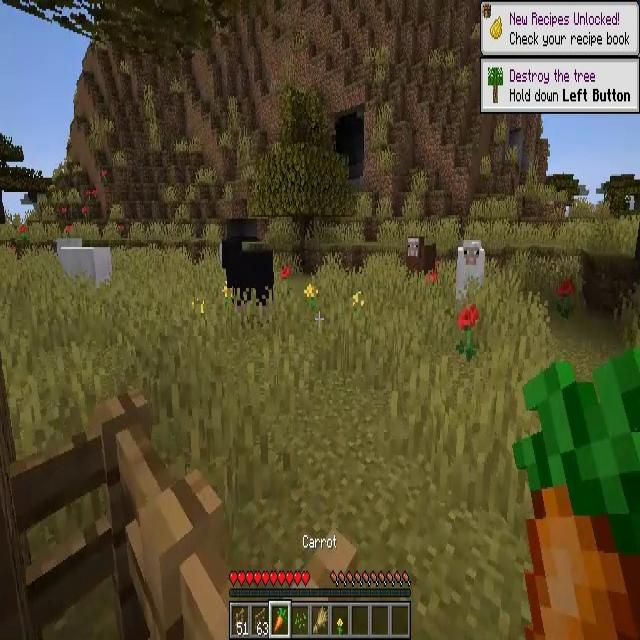sheep: (220, 240, 272, 306), (57, 239, 110, 294), (456, 242, 485, 306), (406, 238, 436, 276)
